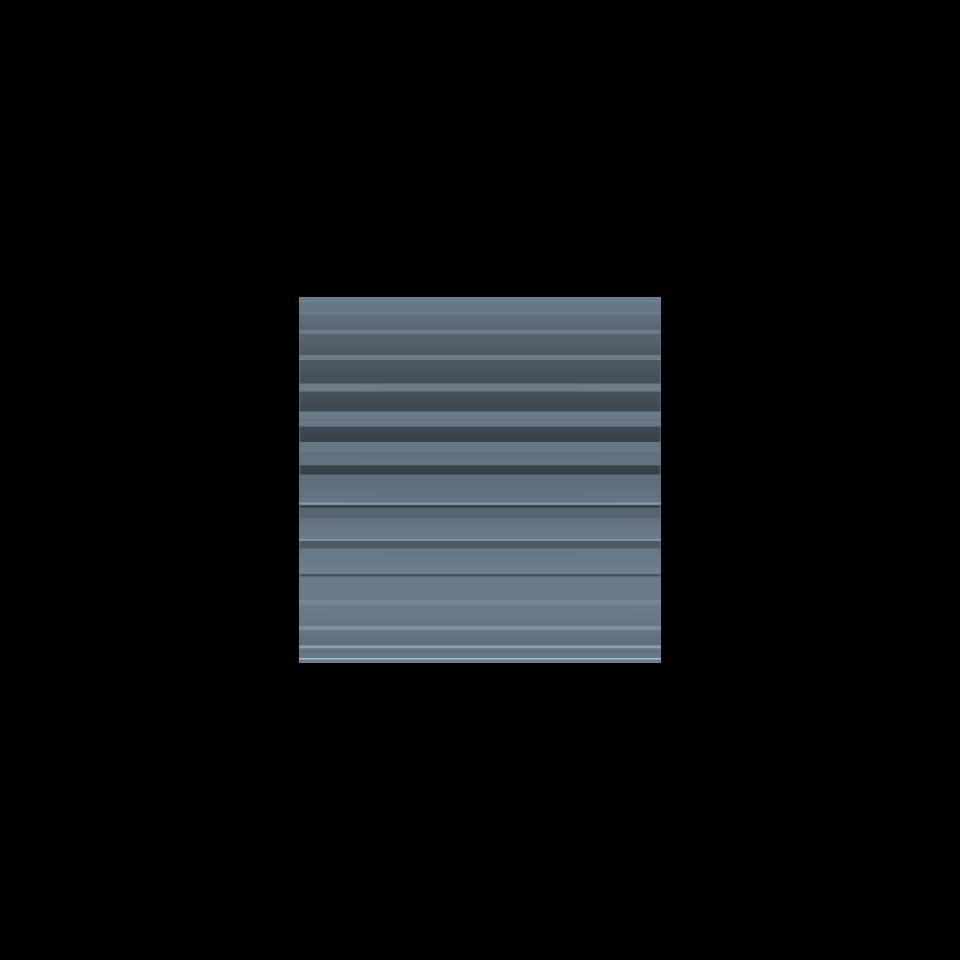Straight: (300, 296, 660, 664)
